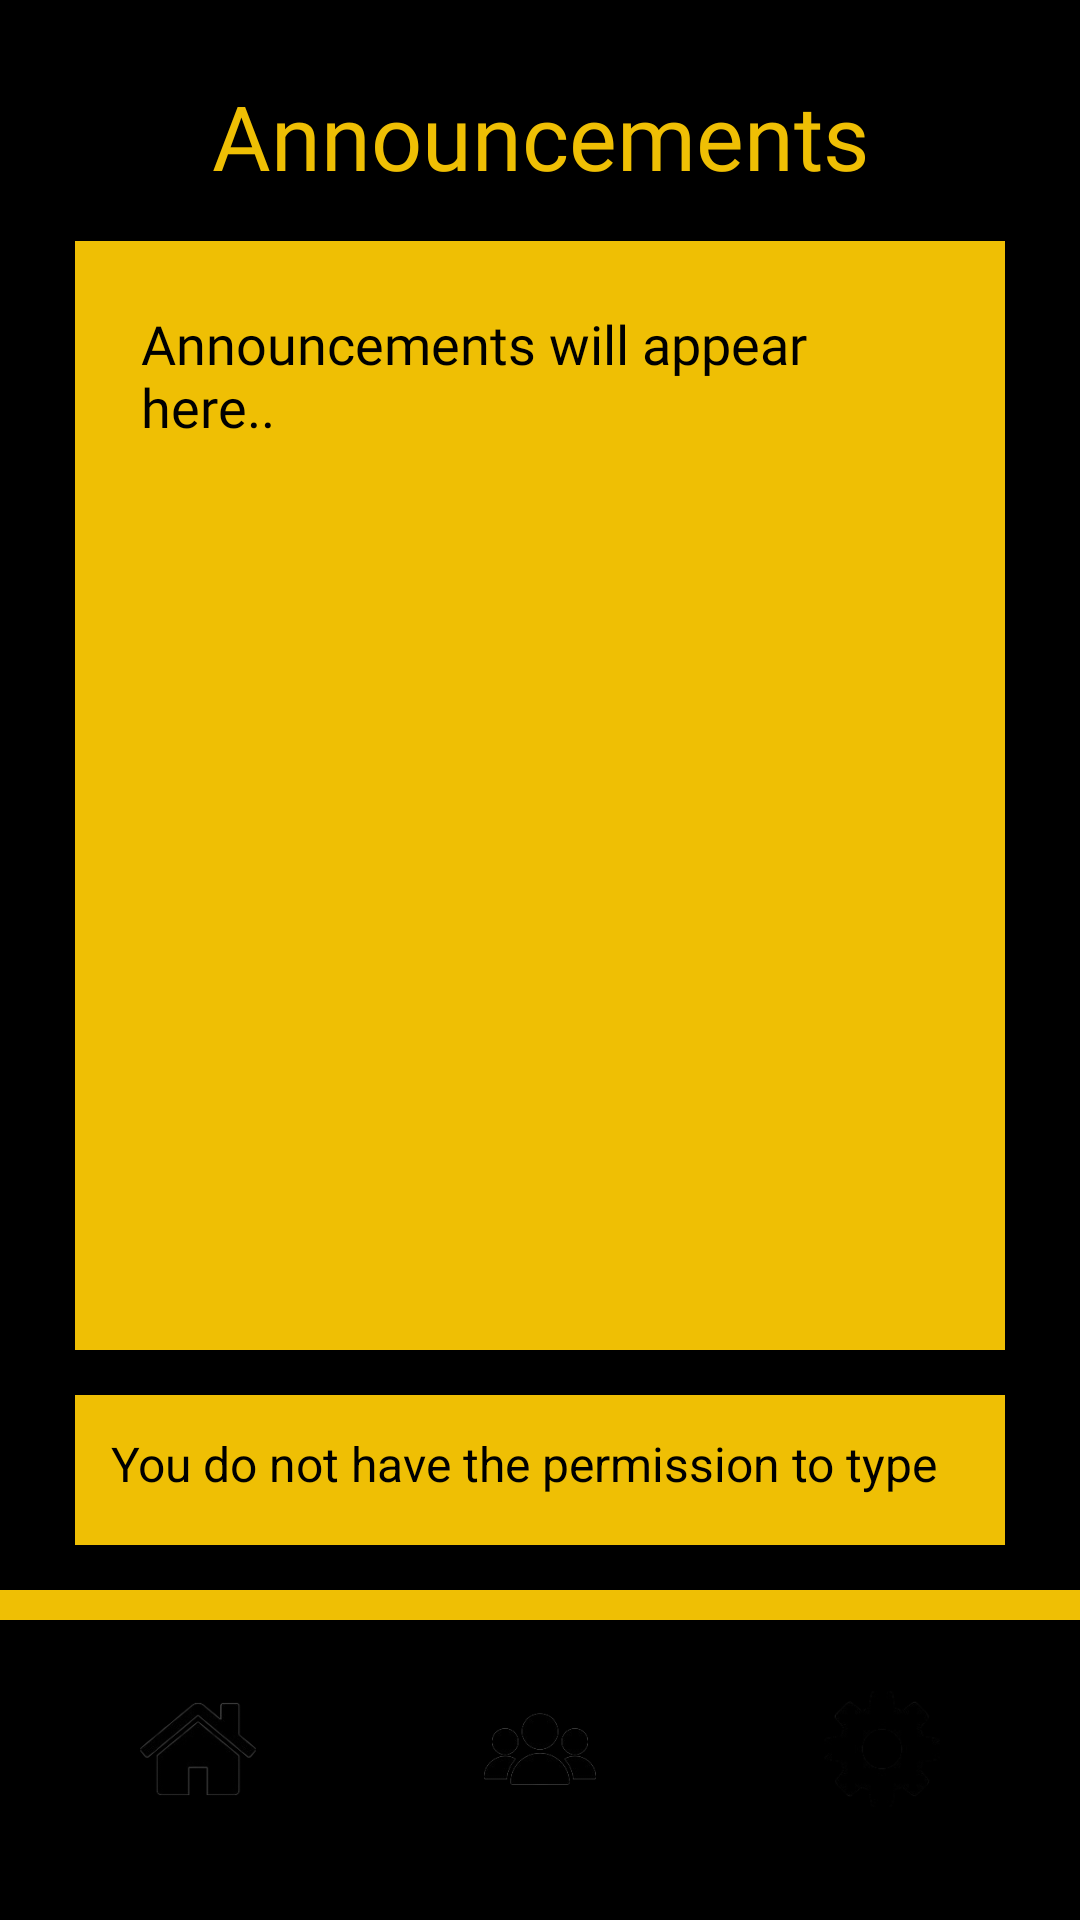

Icons on this 1080 × 1920 Android screen, each with its box as (x1, y1, x2, y2):
house: (140, 1703, 256, 1795)
staff: (484, 1713, 596, 1785)
